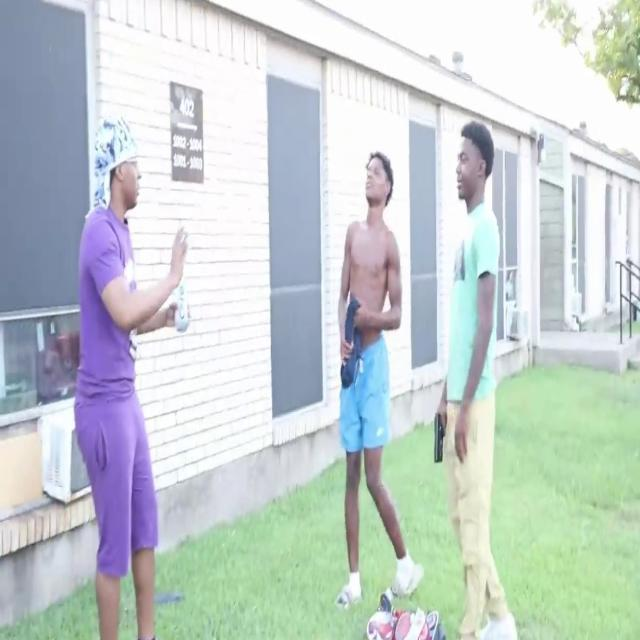Handgun: (431, 394, 452, 468)
